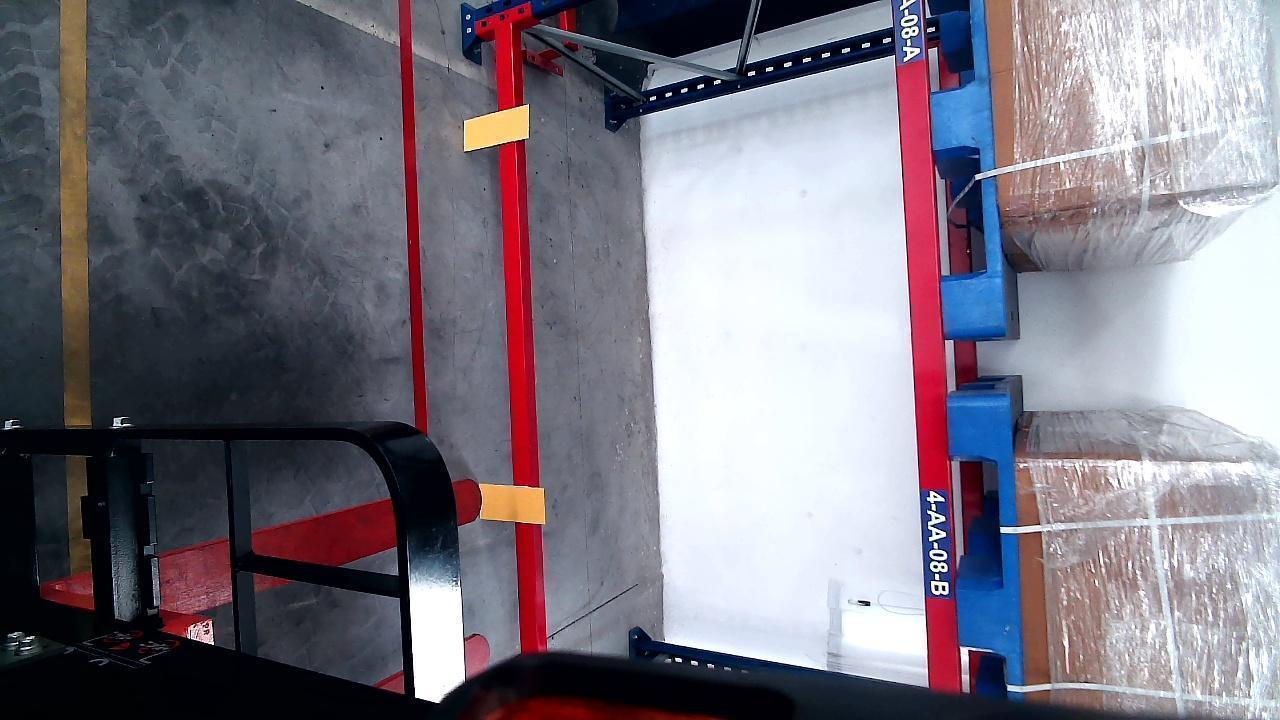red_line: (397, 0, 432, 441)
yellow_line: (59, 0, 92, 419)
